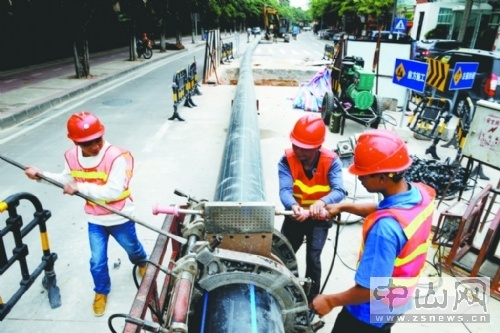red: (350, 132, 412, 194), (66, 111, 106, 158), (290, 115, 327, 162)
